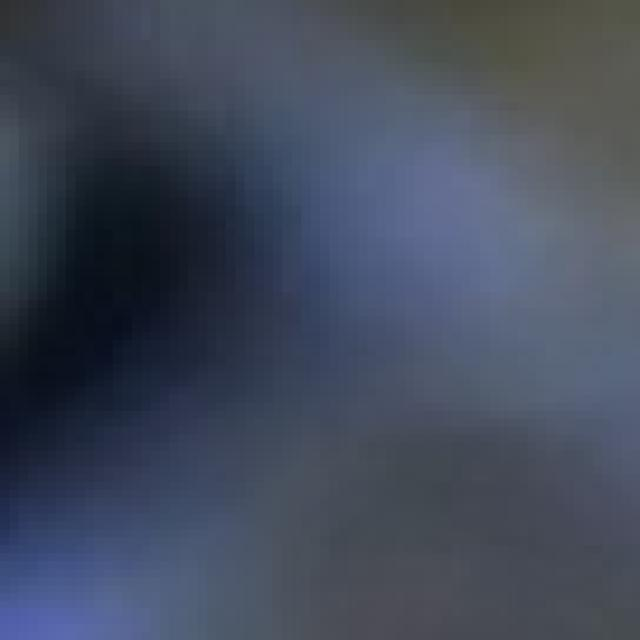fish: (9, 0, 640, 632)
